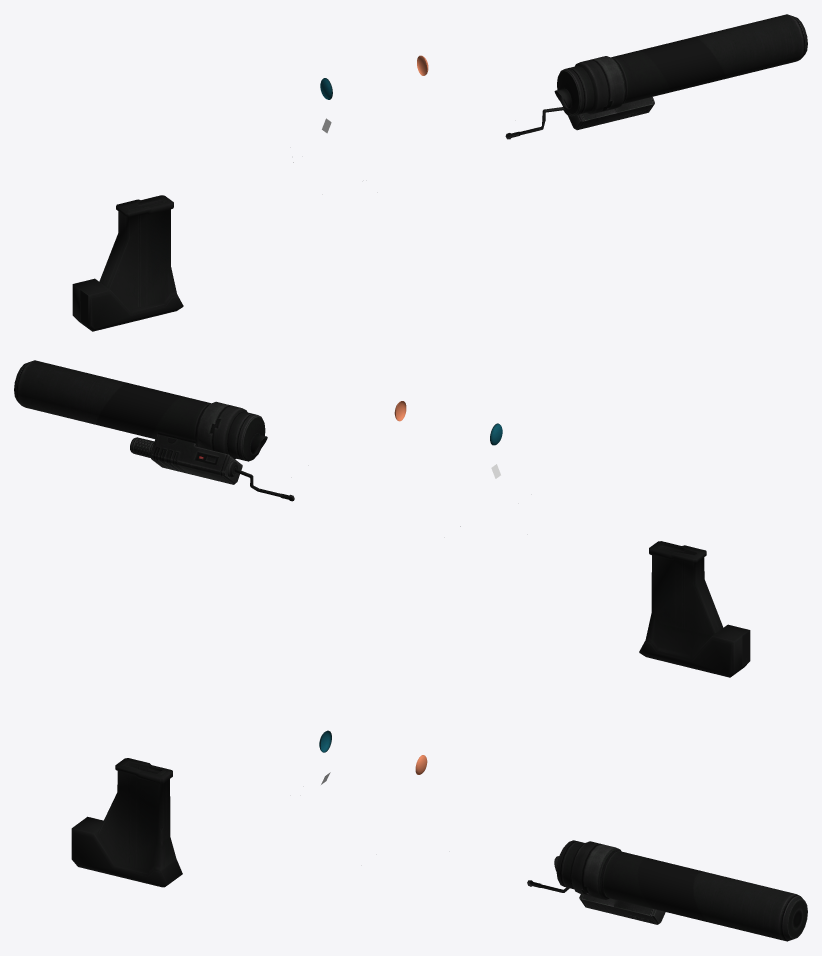
Rendered from XBR55_3rdP_Rigged.fbx.
The picture shows the model from 3 angles, top to bottom: view 1: azimuth 30°, elevation 25°; view 2: azimuth 150°, elevation 25°; view 3: azimuth 330°, elevation 25°; orthographic projection.
Visible parts, largest first — view 1: MainBody.001, Magazine1, Magazine2; view 2: MainBody.001, Magazine1, Magazine2; view 3: MainBody.001, Magazine1, Magazine2.
Boxes of the visible parts, left/top/right/bottom form: MainBody.001: left=320, top=14, right=807, bottom=139; Magazine1: left=72, top=195, right=183, bottom=331; Magazine2: left=79, top=200, right=176, bottom=329; MainBody.001: left=14, top=360, right=502, bottom=526; Magazine1: left=639, top=541, right=750, bottom=677; Magazine2: left=639, top=545, right=750, bottom=672; MainBody.001: left=319, top=730, right=807, bottom=941; Magazine1: left=71, top=758, right=182, bottom=887; Magazine2: left=71, top=758, right=175, bottom=886.
Bounding box in the file's own units: 96.26 × 25.44 × 6.81.
